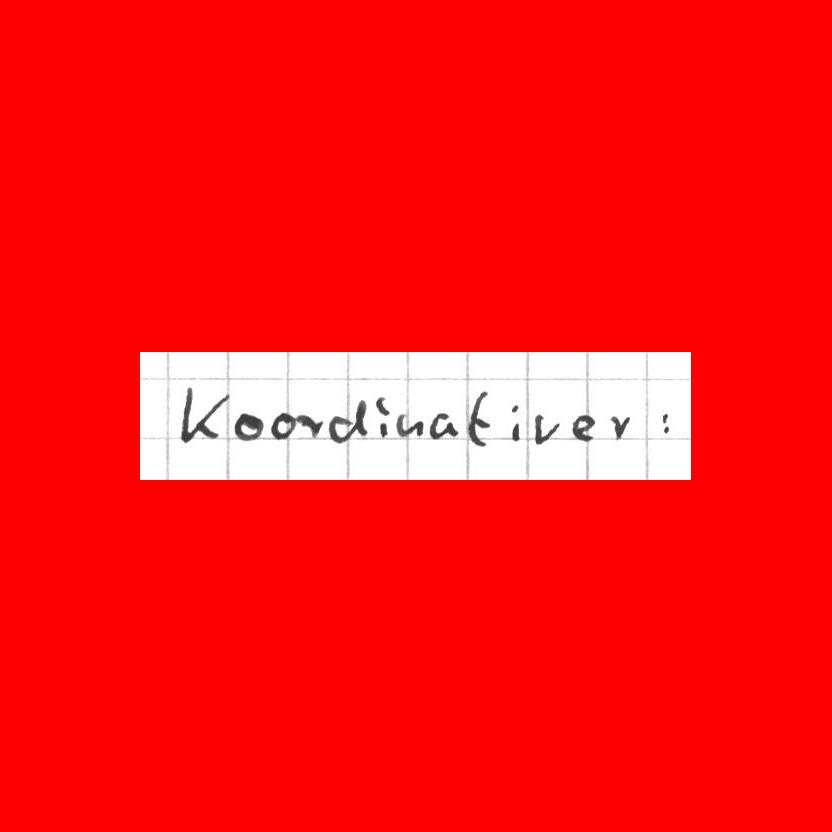Char: (178, 384, 231, 448), (327, 394, 368, 445), (464, 387, 492, 449), (231, 409, 265, 442), (568, 408, 597, 446), (530, 410, 560, 446), (268, 405, 296, 442), (373, 390, 394, 439), (428, 409, 458, 441), (607, 412, 636, 445), (293, 411, 324, 441), (396, 409, 426, 439), (656, 408, 678, 436), (509, 401, 524, 441)
